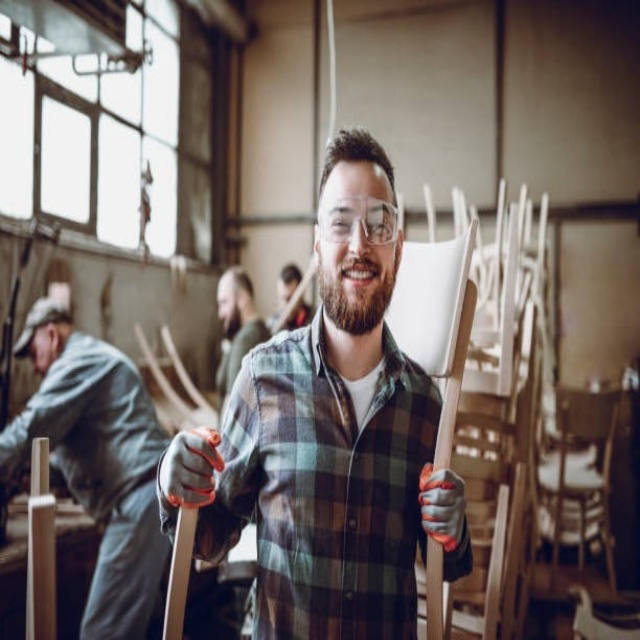Gafas: (318, 196, 402, 244)
Guantes: (159, 425, 223, 510), (420, 463, 467, 553)
Sin_mascara: (334, 256, 382, 307)
